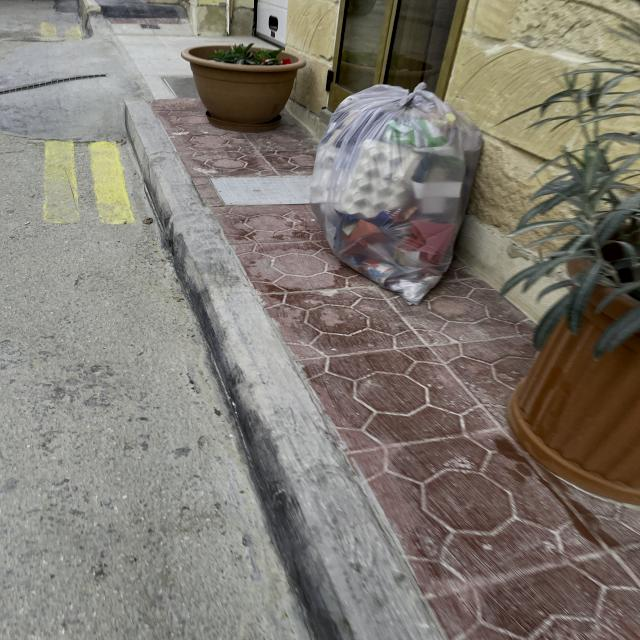grey_bag: (307, 81, 487, 307)
